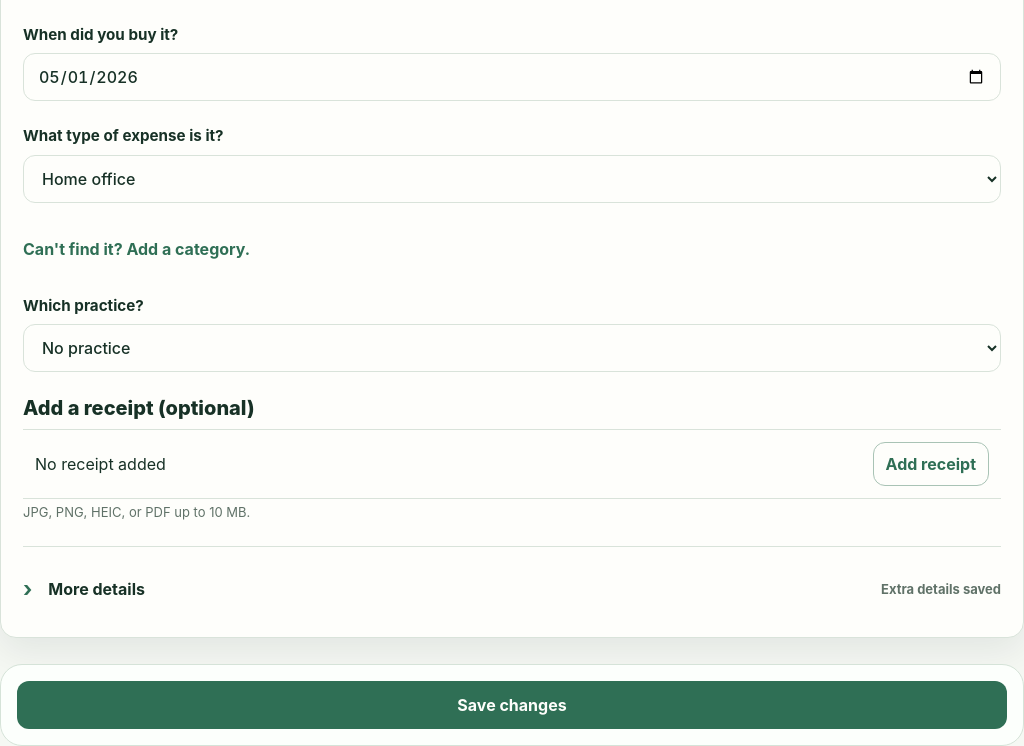
keeps meaningful saved extras collapsed and announces them
(page scrolled)
Expected: the text "Extra details saved" is shown, [881, 581, 1001, 597]
Expected: the text "Extra details added" is not shown
Replace the text in the number field named "Business-use percentage" with "70" at x=512, y=580, box [23, 546, 1001, 615]
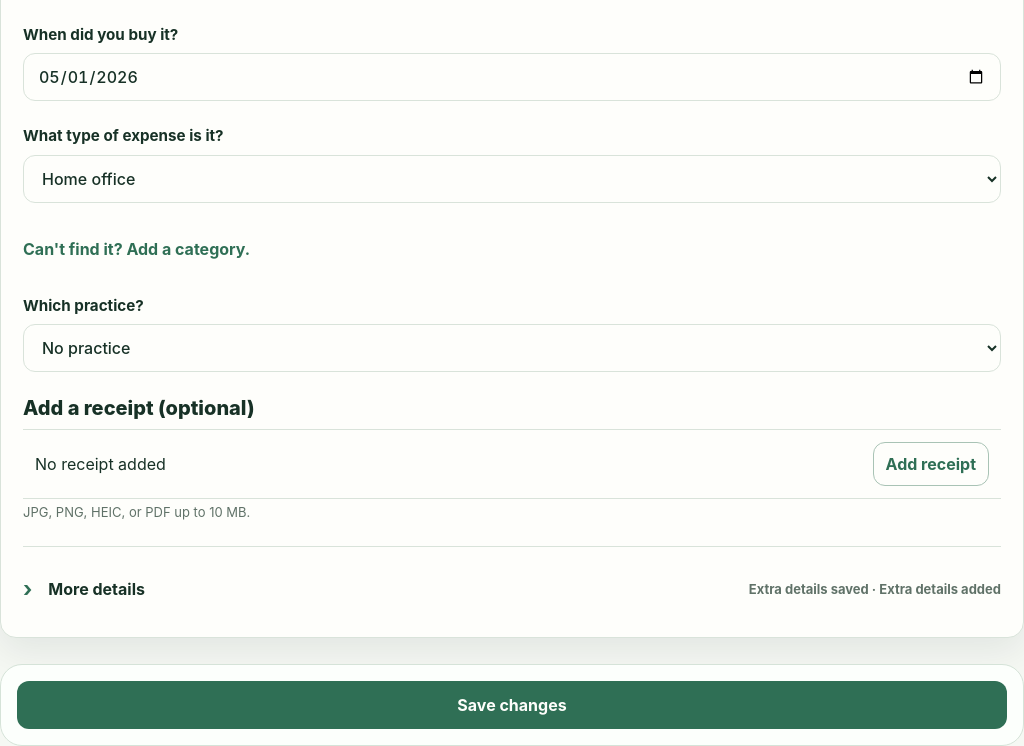
Expected: the text "Extra details saved" is shown, [749, 581, 869, 597]
Expected: the text "Extra details added" is shown, [879, 581, 1001, 597]
